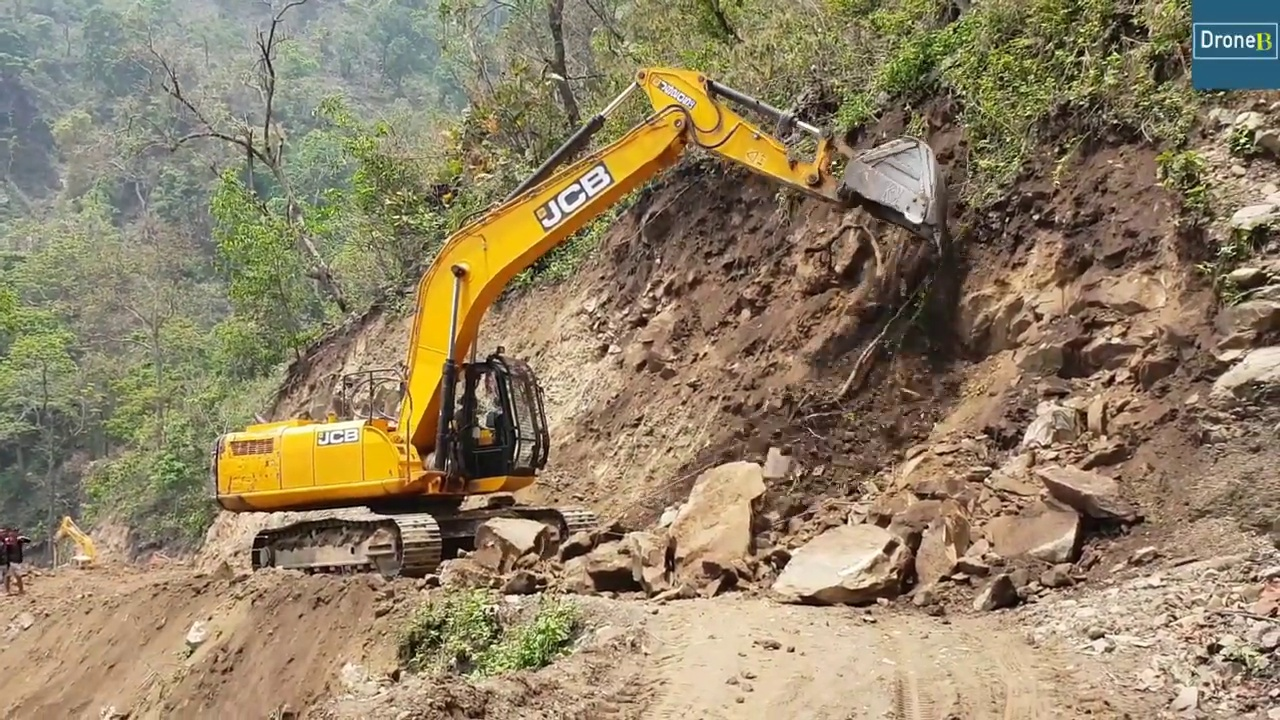excavator: (208, 68, 946, 580), (41, 513, 116, 582)
person: (1, 523, 34, 599)
